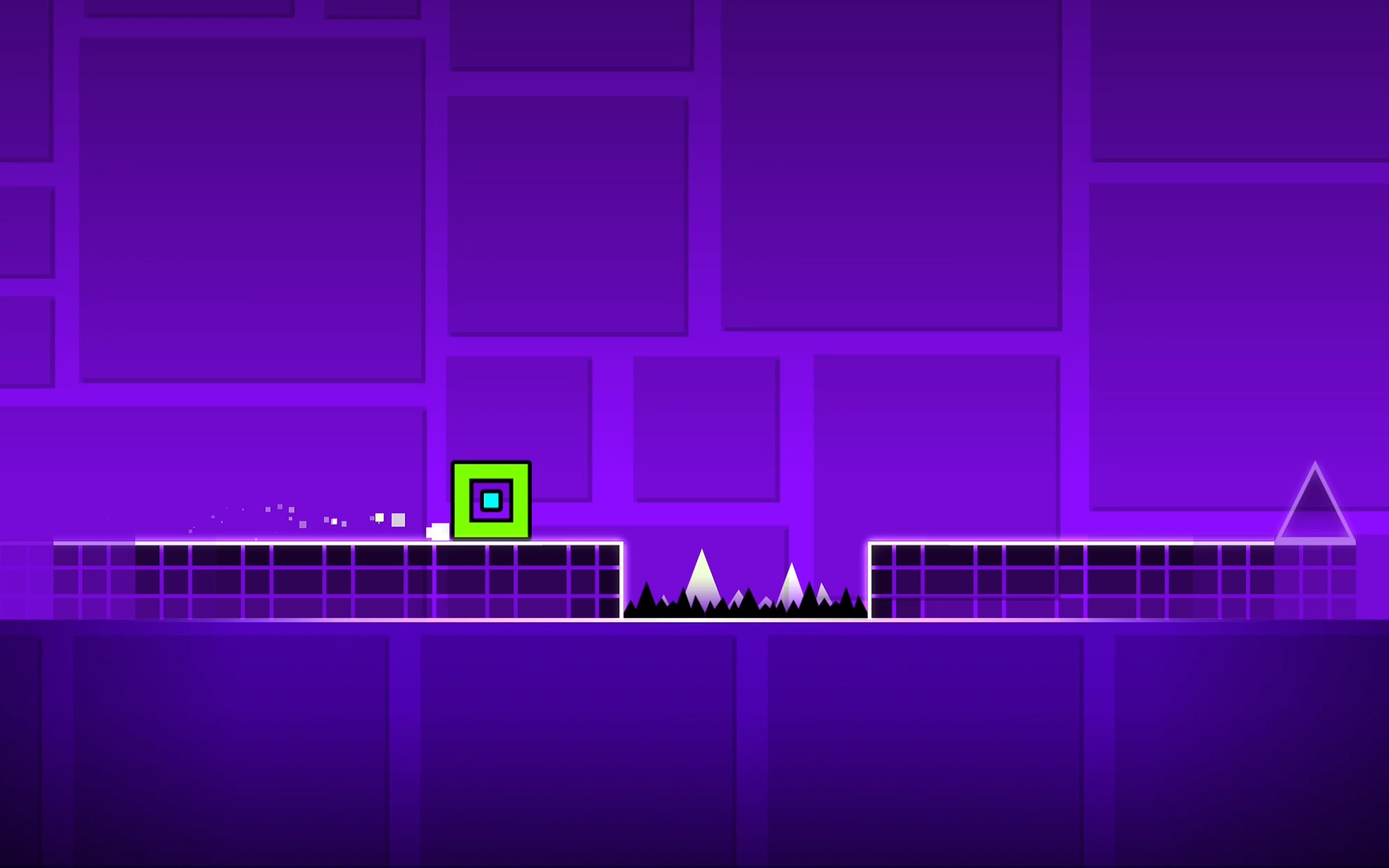Block2: (0, 540, 617, 615), (872, 540, 1368, 617)
Player: (450, 461, 531, 539)
Spike: (1277, 463, 1355, 540)
Spike3: (627, 582, 870, 622)
